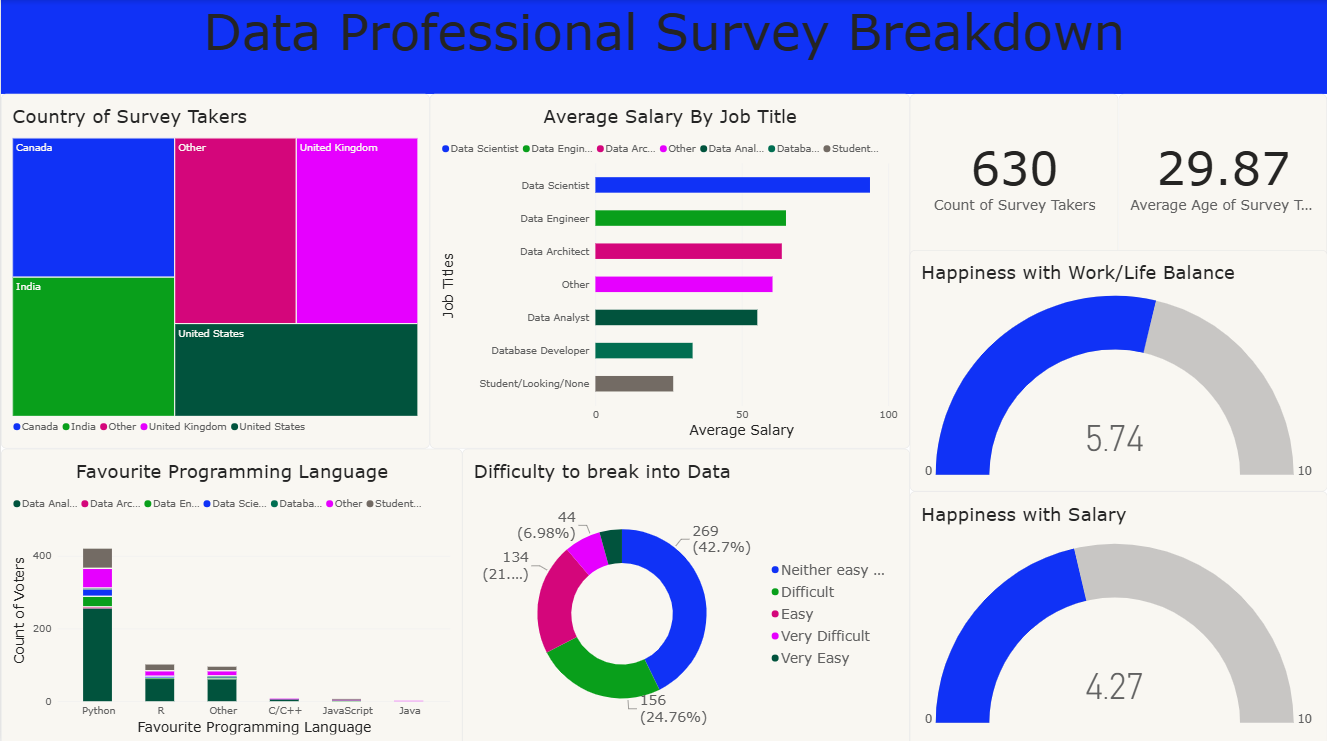

The page's visual inventory and layout, read from the dashboard file:
{"tool":"powerbi","page":{"name":"Page 1","canvas":[1920,1080],"ordinal":0},"visuals":[{"type":"textbox","box":[0,0,1920.1,135.7],"z":0},{"type":"cardVisual","fields":{"Data":["Count(Data Professional Survey.Unique ID)"]},"box":[1315.6,135.7,302.2,238.9],"z":1000},{"type":"cardVisual","fields":{"Data":["Avg(Data Professional Survey.Q10 - Current Age)"]},"box":[1617.8,135.7,302.2,238.9],"z":2000},{"type":"barChart","title":"Average Salary By Job Title","fields":{"Category":["Data Professional Survey.Q1 - Which Title Best Fits your Current Role?"],"Series":["Data Professional Survey.Q1 - Which Title Best Fits your Current Role?"],"Y":["Avg(Data Professional Survey.Average Salary)"]},"box":[620.7,135.7,694.9,513.9],"z":3000},{"type":"columnChart","title":"Favourite Programming Language","fields":{"Category":["Data Professional Survey.Q5 - Favorite Programming Language"],"Series":["Data Professional Survey.Q1 - Which Title Best Fits your Current Role?"],"Y":["CountNonNull(Data Professional Survey.Unique ID)"]},"box":[0,649.7,667.8,430.7],"z":4000},{"type":"treemap","title":"Country of Survey Takers","fields":{"Group":["Data Professional Survey.Q11 - Which Country do you live in?"],"Values":["Count(Data Professional Survey.Q11 - Which Country do you live in?)"]},"box":[0,135.7,620.7,513.9],"z":5000},{"type":"gauge","title":"Happiness with Salary","fields":{"MaxValue":["Max(Data Professional Survey.Q6 - How Happy are you in your Current Position with the following? (Salary))"],"MinValue":["Min(Data Professional Survey.Q6 - How Happy are you in your Current Position with the following? (Salary))"],"Y":["Avg(Data Professional Survey.Q6 - How Happy are you in your Current Position with the following? (Salary))"]},"box":[1315.6,711.2,604.4,369.2],"z":5001},{"type":"gauge","title":"Happiness with Work/Life Balance","fields":{"MaxValue":["Max(Data Professional Survey.Q6 - How Happy are you in your Current Position with the following? (Work/Life Balance))"],"MinValue":["Min(Data Professional Survey.Q6 - How Happy are you in your Current Position with the following? (Work/Life Balance))"],"Y":["Avg(Data Professional Survey.Q6 - How Happy are you in your Current Position with the following? (Work/Life Balance))"]},"box":[1315.6,361.9,604.4,349.3],"z":5002},{"type":"donutChart","title":"Difficulty to break into Data","fields":{"Category":["Data Professional Survey.Q7 - How difficult was it for you to break into Data?"],"Y":["CountNonNull(Data Professional Survey.Q7 - How difficult was it for you to break into Data?)"]},"box":[667.8,649.7,647.9,430.7],"z":5003}]}

Visuals, with their boxes in screenshot pixels (x1, y1, x2, y2), scaled from the page's 1920x1080 canvas onto the 1327x741 screenshot:
textbox: pyautogui.locateOnScreen(0, 0, 1326, 93)
cardVisual - Count(Data Professional Survey.Unique ID): pyautogui.locateOnScreen(909, 93, 1118, 257)
cardVisual - Avg(Data Professional Survey.Q10 - Current Age): pyautogui.locateOnScreen(1118, 93, 1326, 257)
"Average Salary By Job Title" barChart: pyautogui.locateOnScreen(429, 93, 909, 446)
"Favourite Programming Language" columnChart: pyautogui.locateOnScreen(0, 446, 462, 740)
"Country of Survey Takers" treemap: pyautogui.locateOnScreen(0, 93, 429, 446)
"Happiness with Salary" gauge: pyautogui.locateOnScreen(909, 488, 1326, 740)
"Happiness with Work/Life Balance" gauge: pyautogui.locateOnScreen(909, 248, 1326, 488)
"Difficulty to break into Data" donutChart: pyautogui.locateOnScreen(462, 446, 909, 740)
